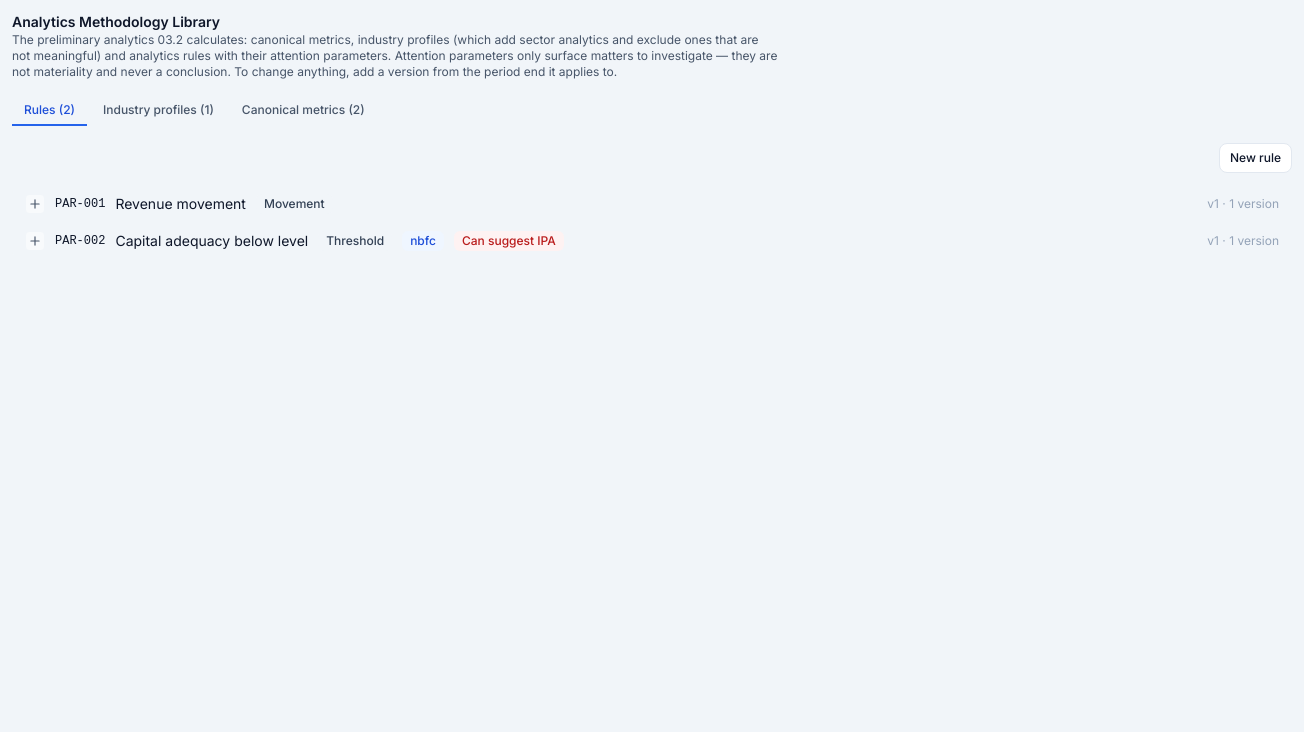
Test: Analytics Methodology Library administration › lists rules with their parameters, profile scope and IPA capability
The width and height of the screenshot is (1304, 732).
Check: the text "Revenue movement" is shown, box [115,194,246,214]
Check: the text "Can suggest IPA" is shown, box [454,231,564,251]
Step 1. Click the button "PAR-001 Revenue movement Movement v1 · 1 version" → (80, 204), box [25,194,1279,214]
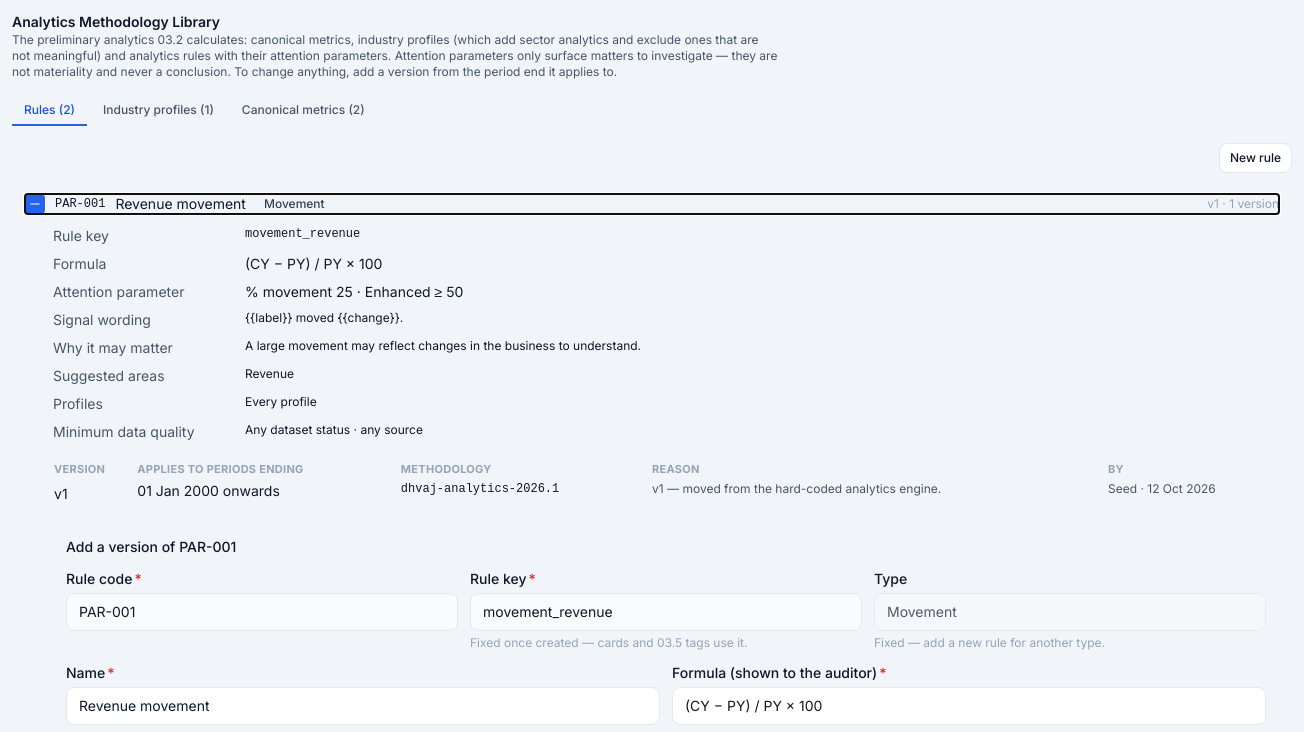
Check: the text "% movement 25 · Enhanced ≥ 50" is shown, box [245,283,463,300]
Check: the text "Every profile" is shown, box [245,394,317,409]
